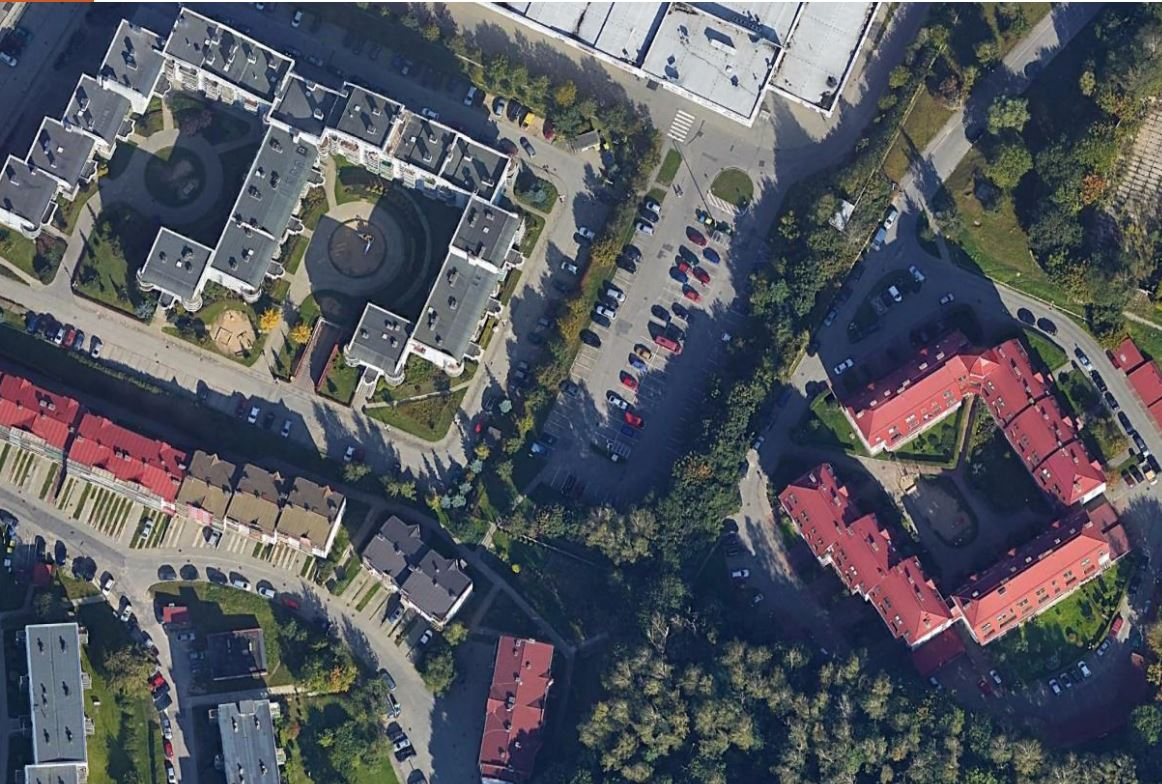block of flats: (1, 5, 564, 431), (771, 310, 1122, 668), (7, 612, 110, 784), (214, 684, 301, 784)
shopping_center: (463, 1, 888, 127)
terrace house: (1, 371, 354, 564), (458, 631, 573, 784), (360, 509, 477, 632)
